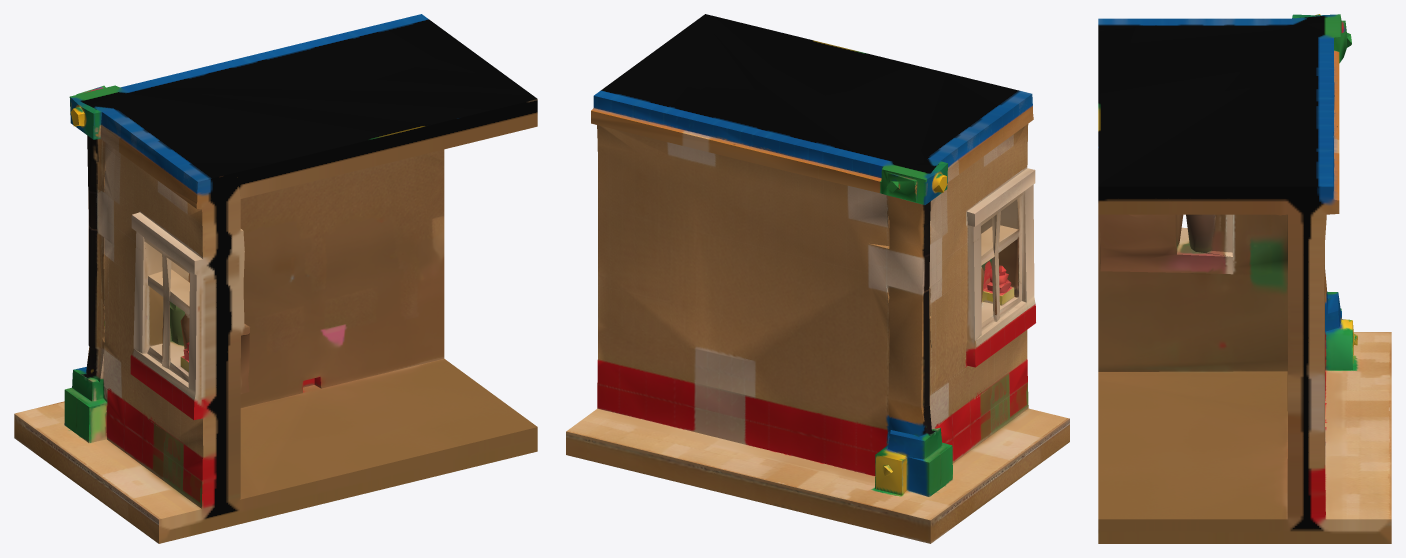
Rendered from 3-ground-floor-back-left.fbx.
The picture shows the model from 3 angles, left to right: view 1: azimuth 30°, elevation 25°; view 2: azimuth 150°, elevation 25°; view 3: azimuth 270°, elevation 25°; orthographic projection. The views are drawn at different scales.
Parts seen in each view (by area): view 1: ground-floor-back-left; view 2: ground-floor-back-left; view 3: ground-floor-back-left.
Part boxes in pixels (box(x1,y1,x2,y2)): ground-floor-back-left: box(14, 14, 537, 543); ground-floor-back-left: box(566, 14, 1069, 543); ground-floor-back-left: box(1098, 14, 1391, 543).
Bounding box in the file's own units: 4739 × 4215 × 3135.
Materials: 1 (1 with a texture image).
